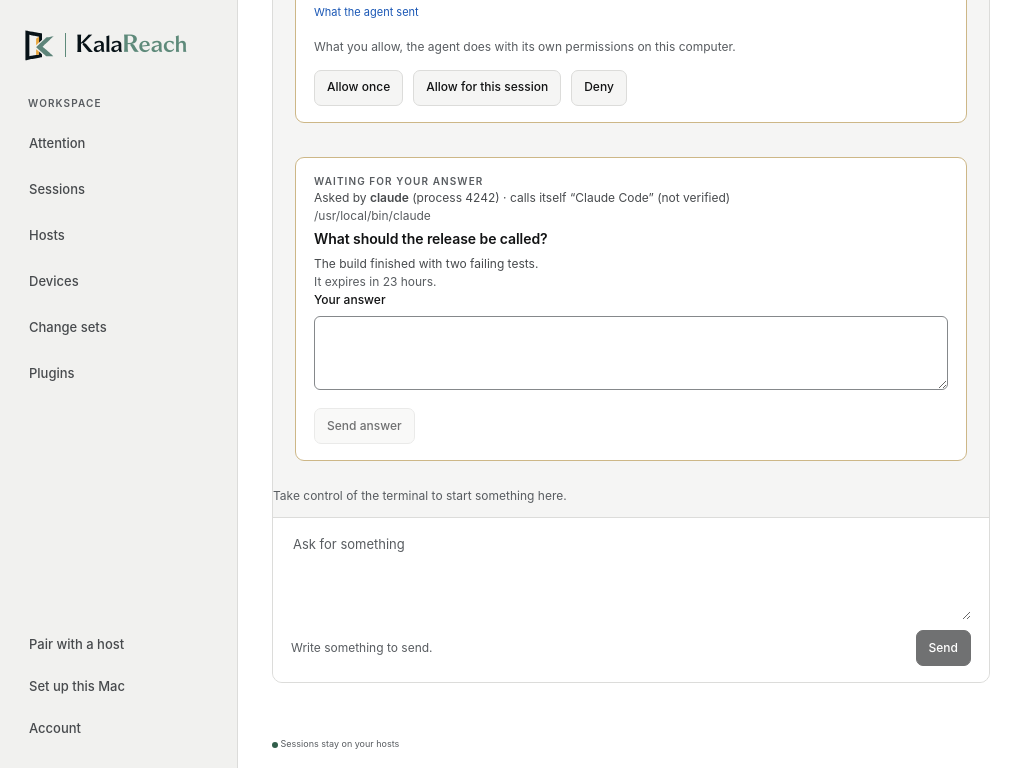
it: what the person writes goes where they wrote it (KR-REQ-13.12) › keeps a draft written before the agent was read to the first conversation it learns
(page scrolled)
# Written while the agent is still being read.
Type "Written early" into the text box with test id "composer-input" at (631, 577), box [291,534,971,620]
(page scrolled)
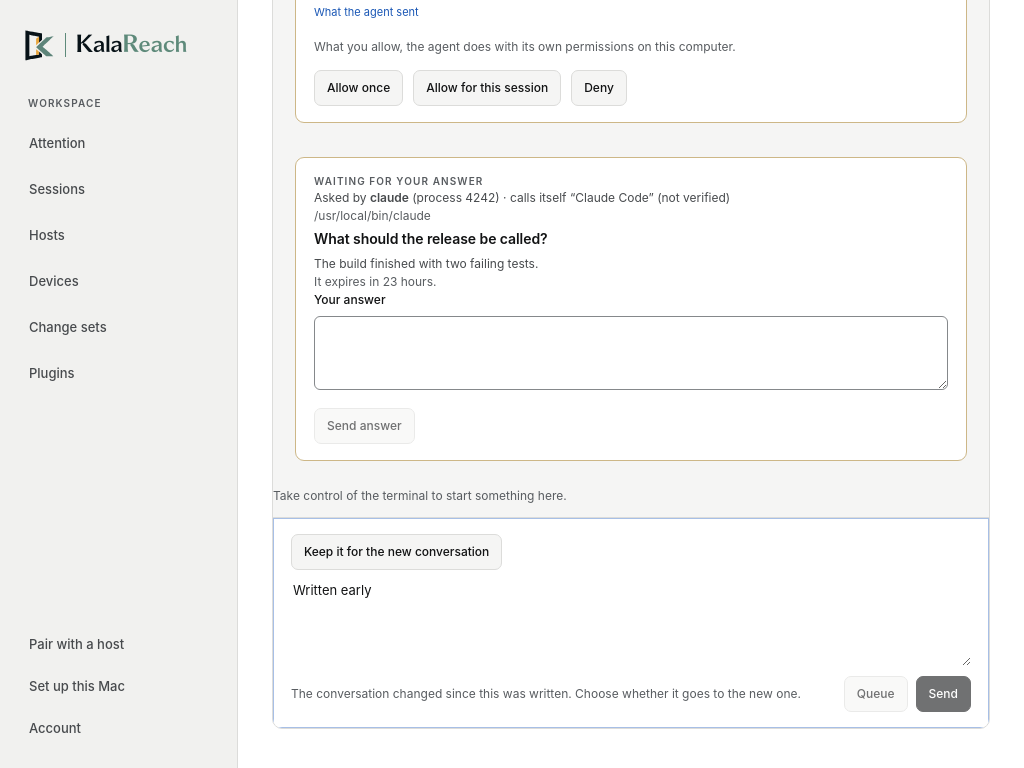
Expected: the button with test id "composer-send" is disabled, [916,676,971,712]
Expected: the text with test id "composer-reason" shows "The conversation changed since this was written.", [291,686,801,701]
